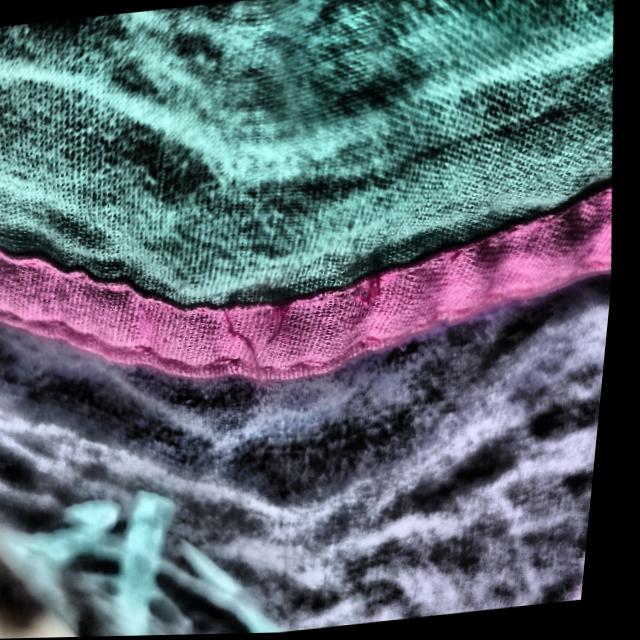Stitch: (180, 197, 329, 392), (340, 189, 427, 346)
